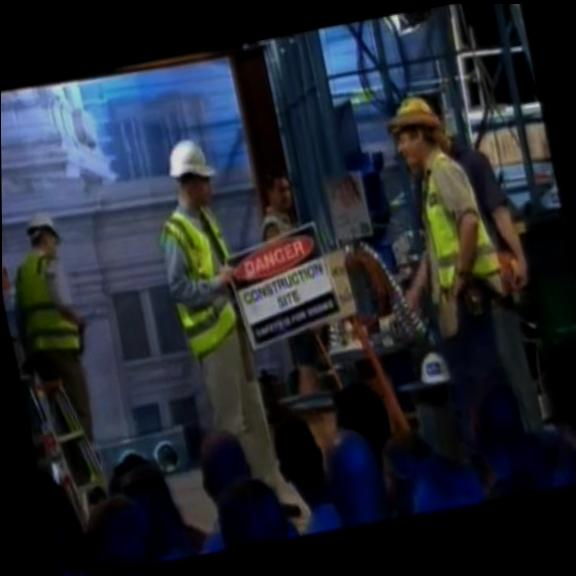safety_vest: (409, 141, 505, 302), (155, 198, 248, 359), (2, 240, 84, 370)
